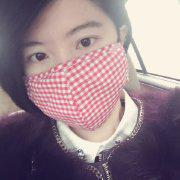OK: (15, 18, 123, 126)
